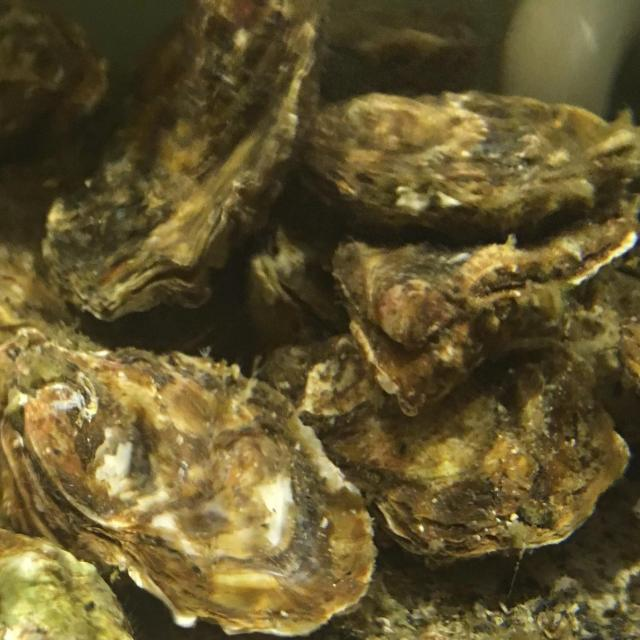Oyster- Indeterminate: (0, 329, 375, 636), (254, 333, 629, 557), (320, 202, 636, 410), (0, 216, 115, 539), (559, 190, 640, 428), (0, 528, 134, 640), (87, 266, 239, 357)
Oyster-Closed: (40, 0, 328, 319), (296, 92, 640, 238)
Oyster-Open: (245, 182, 350, 352)
